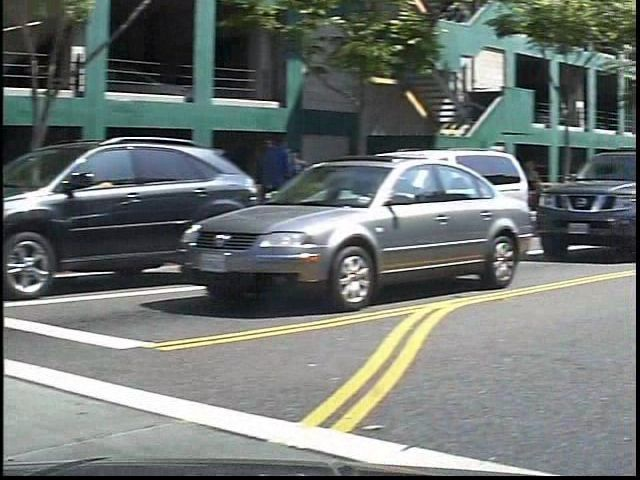person: (272, 128, 319, 242), (542, 157, 557, 185)
